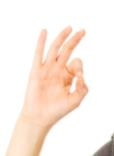left: (28, 24, 91, 124)
